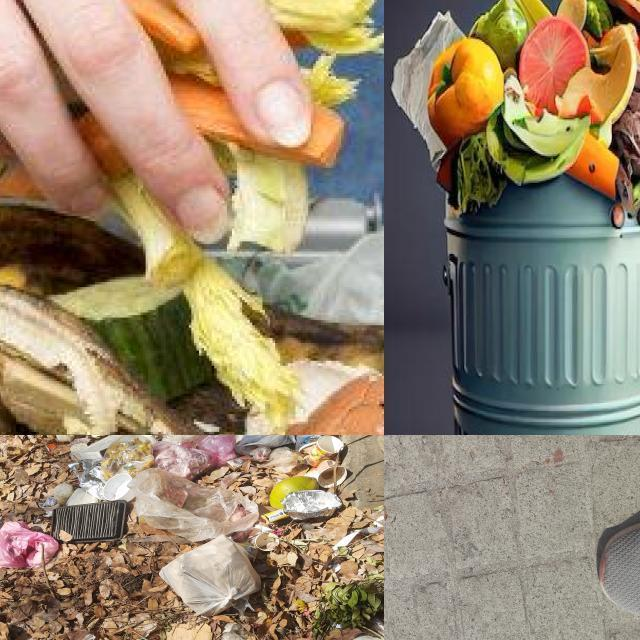Background: (384, 435, 640, 640)
Garbage: (0, 209, 384, 435), (386, 0, 640, 221)
